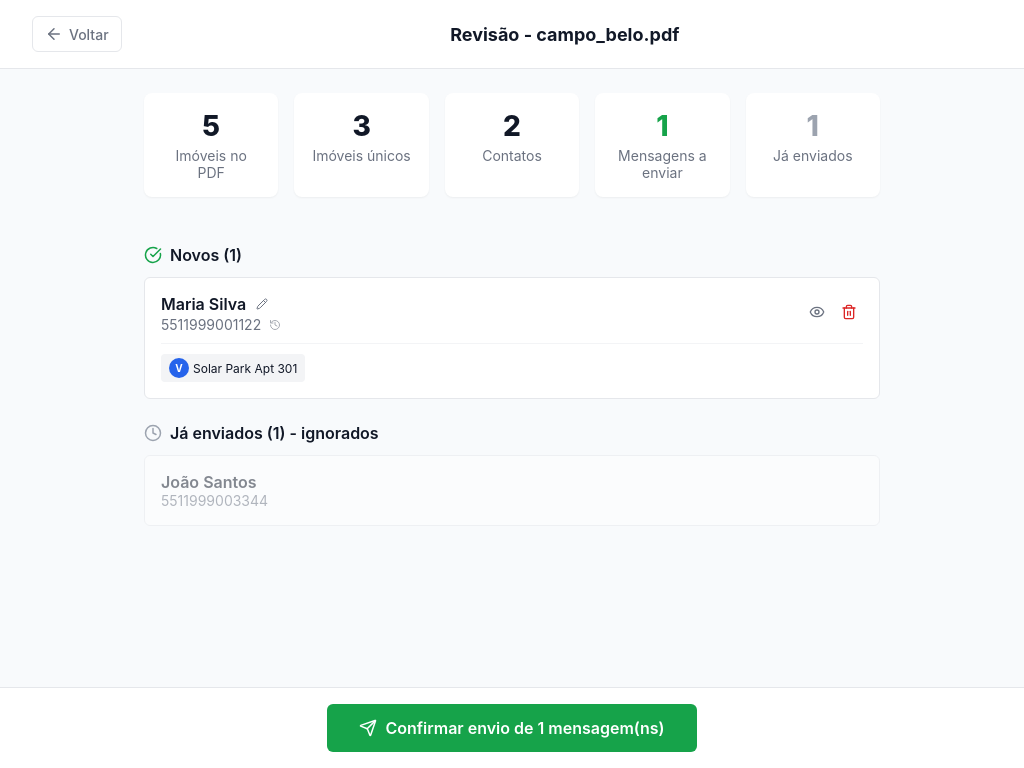
it: Revisao › deve fechar modal ao cancelar remocao
Click the button titled "Remover": (849, 314) [835,298,863,329]
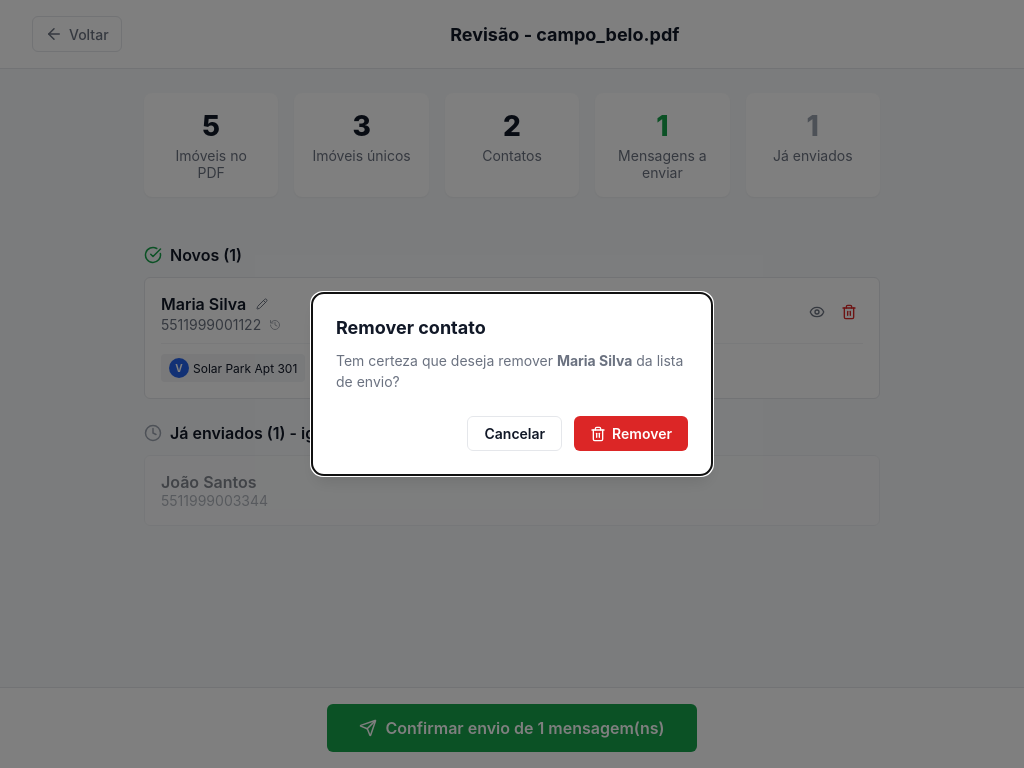
Click the button "Cancelar": (515, 434) [468,416,562,451]
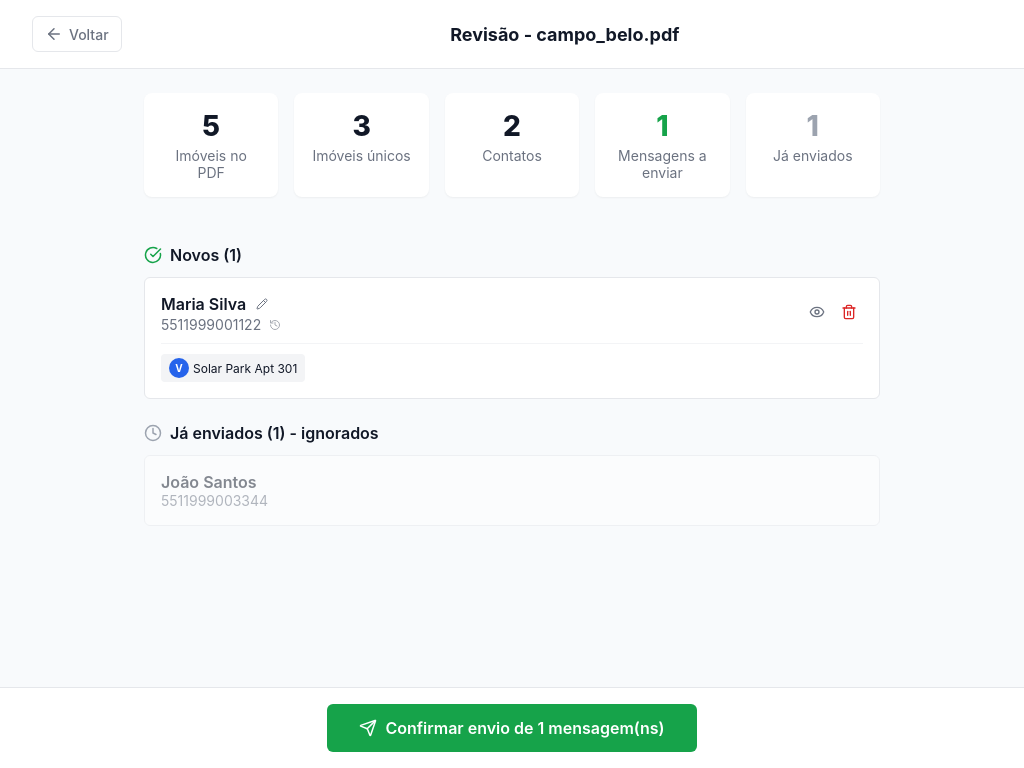
Result: the heading "Remover contato" is gone
